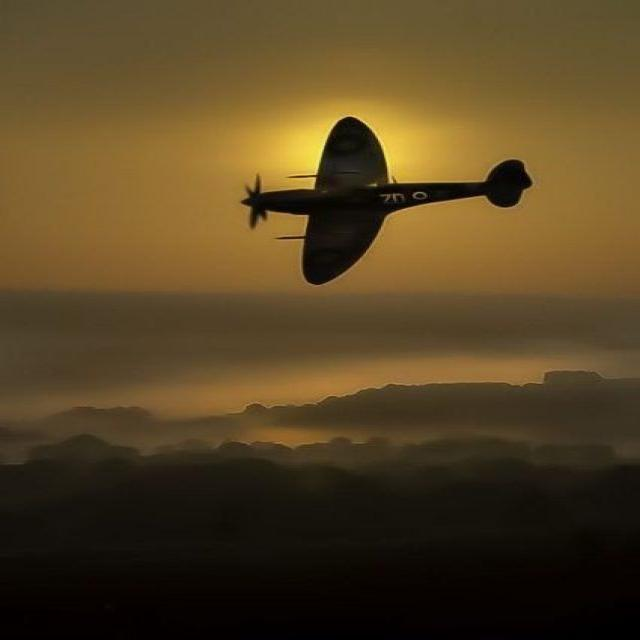iha: (243, 106, 535, 281)
